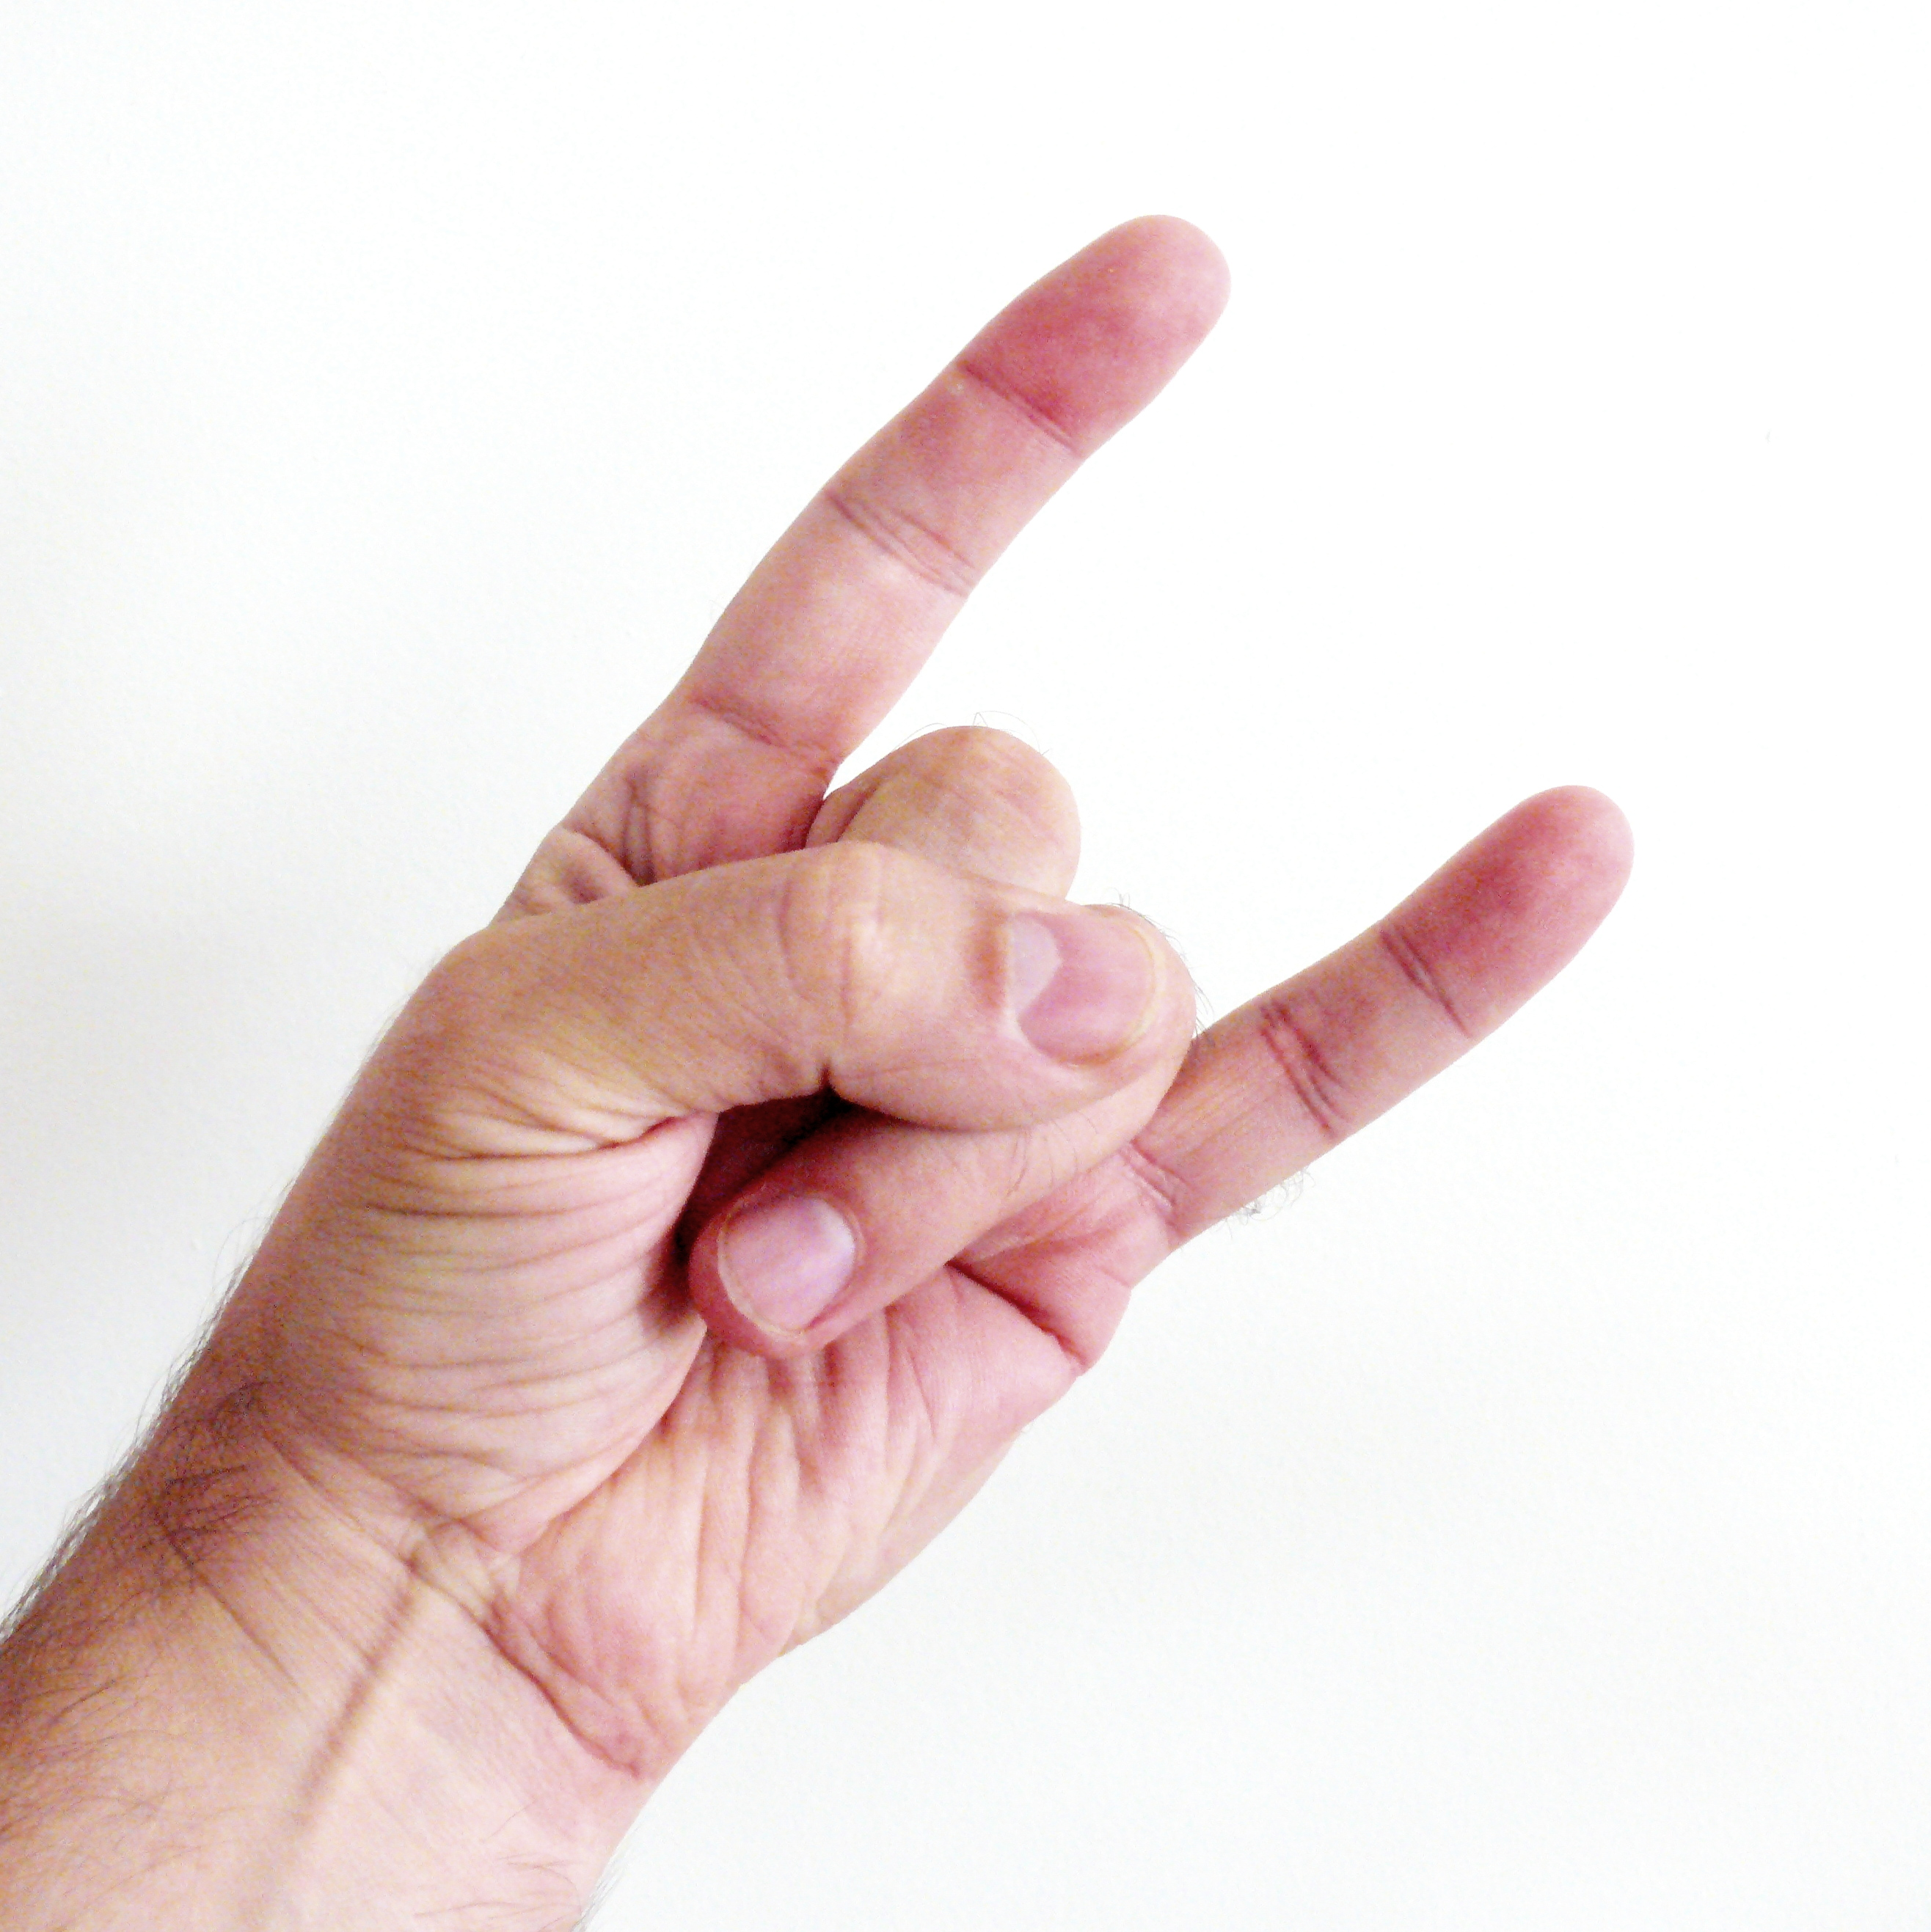Rock: (213, 219, 1635, 1781)
